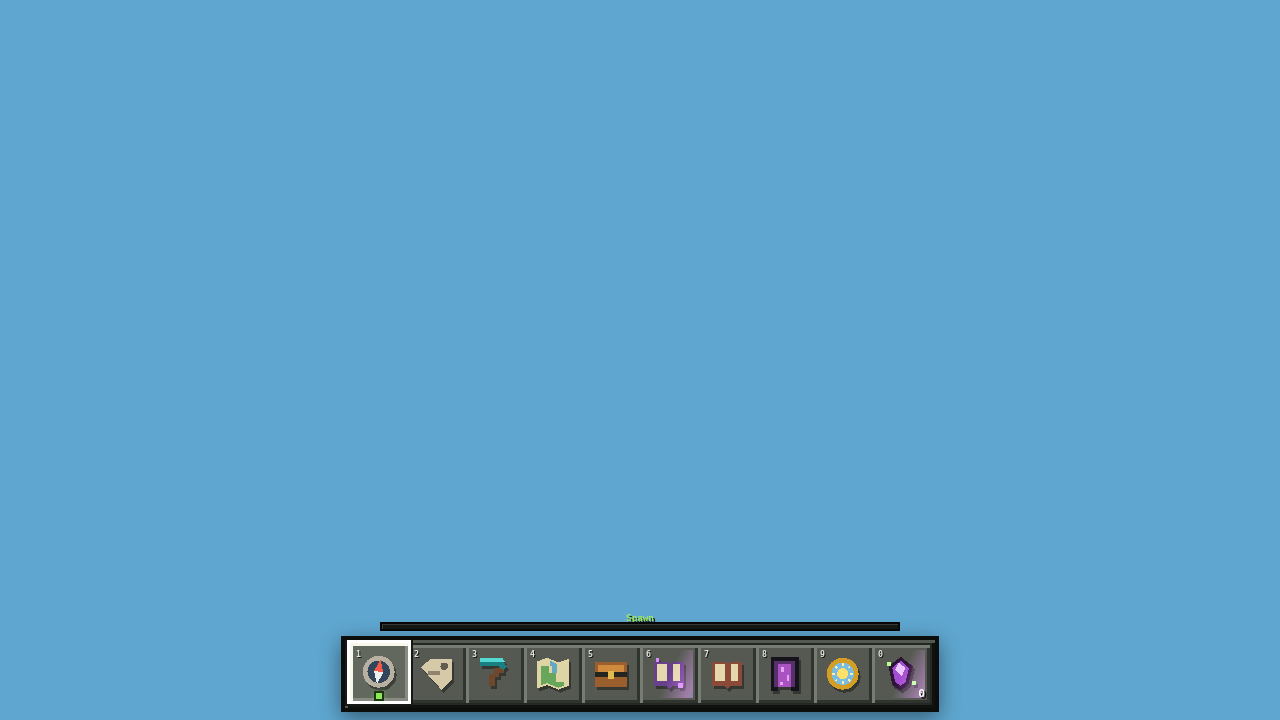
Test: MinecraftHUD hotbar › preserves the existing persisted theme behavior
(page scrolled)
Click the button named "Clock — Switch to night mode". click: point(843, 674)
box: [814,645,872,703]
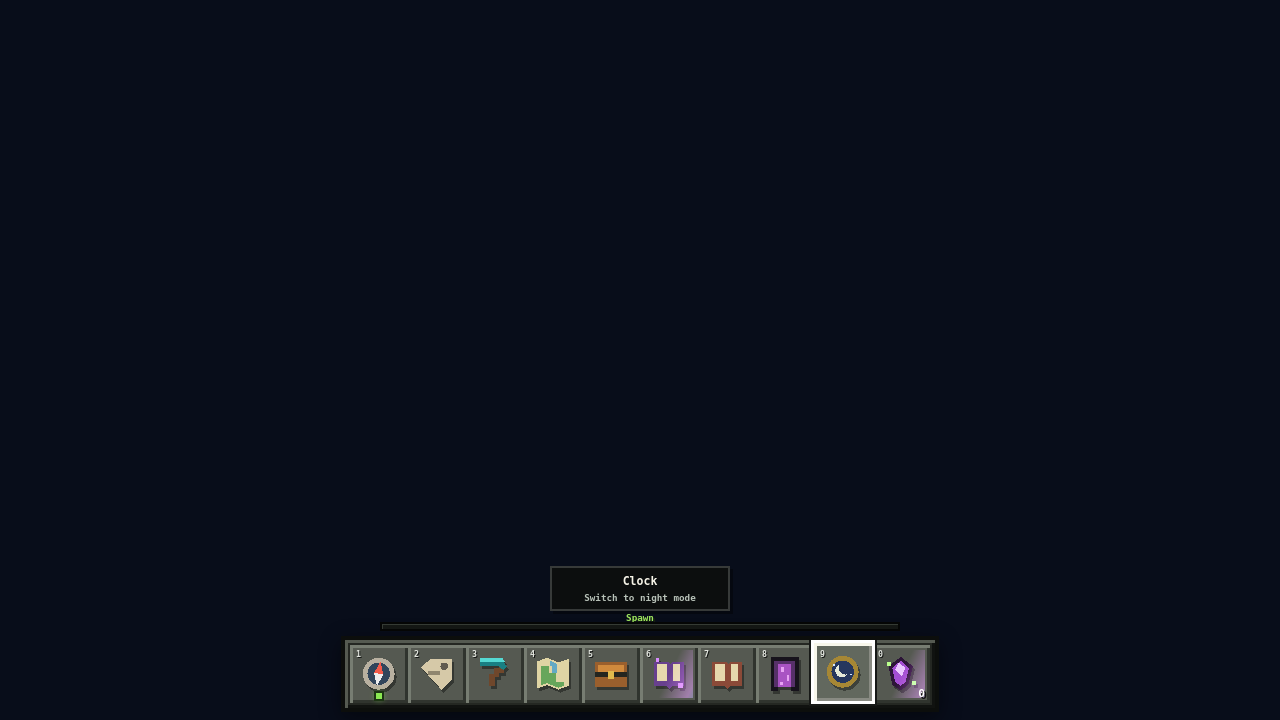
Expected: the button named "Clock — Switch to day mode" is shown, [814,643,872,701]
